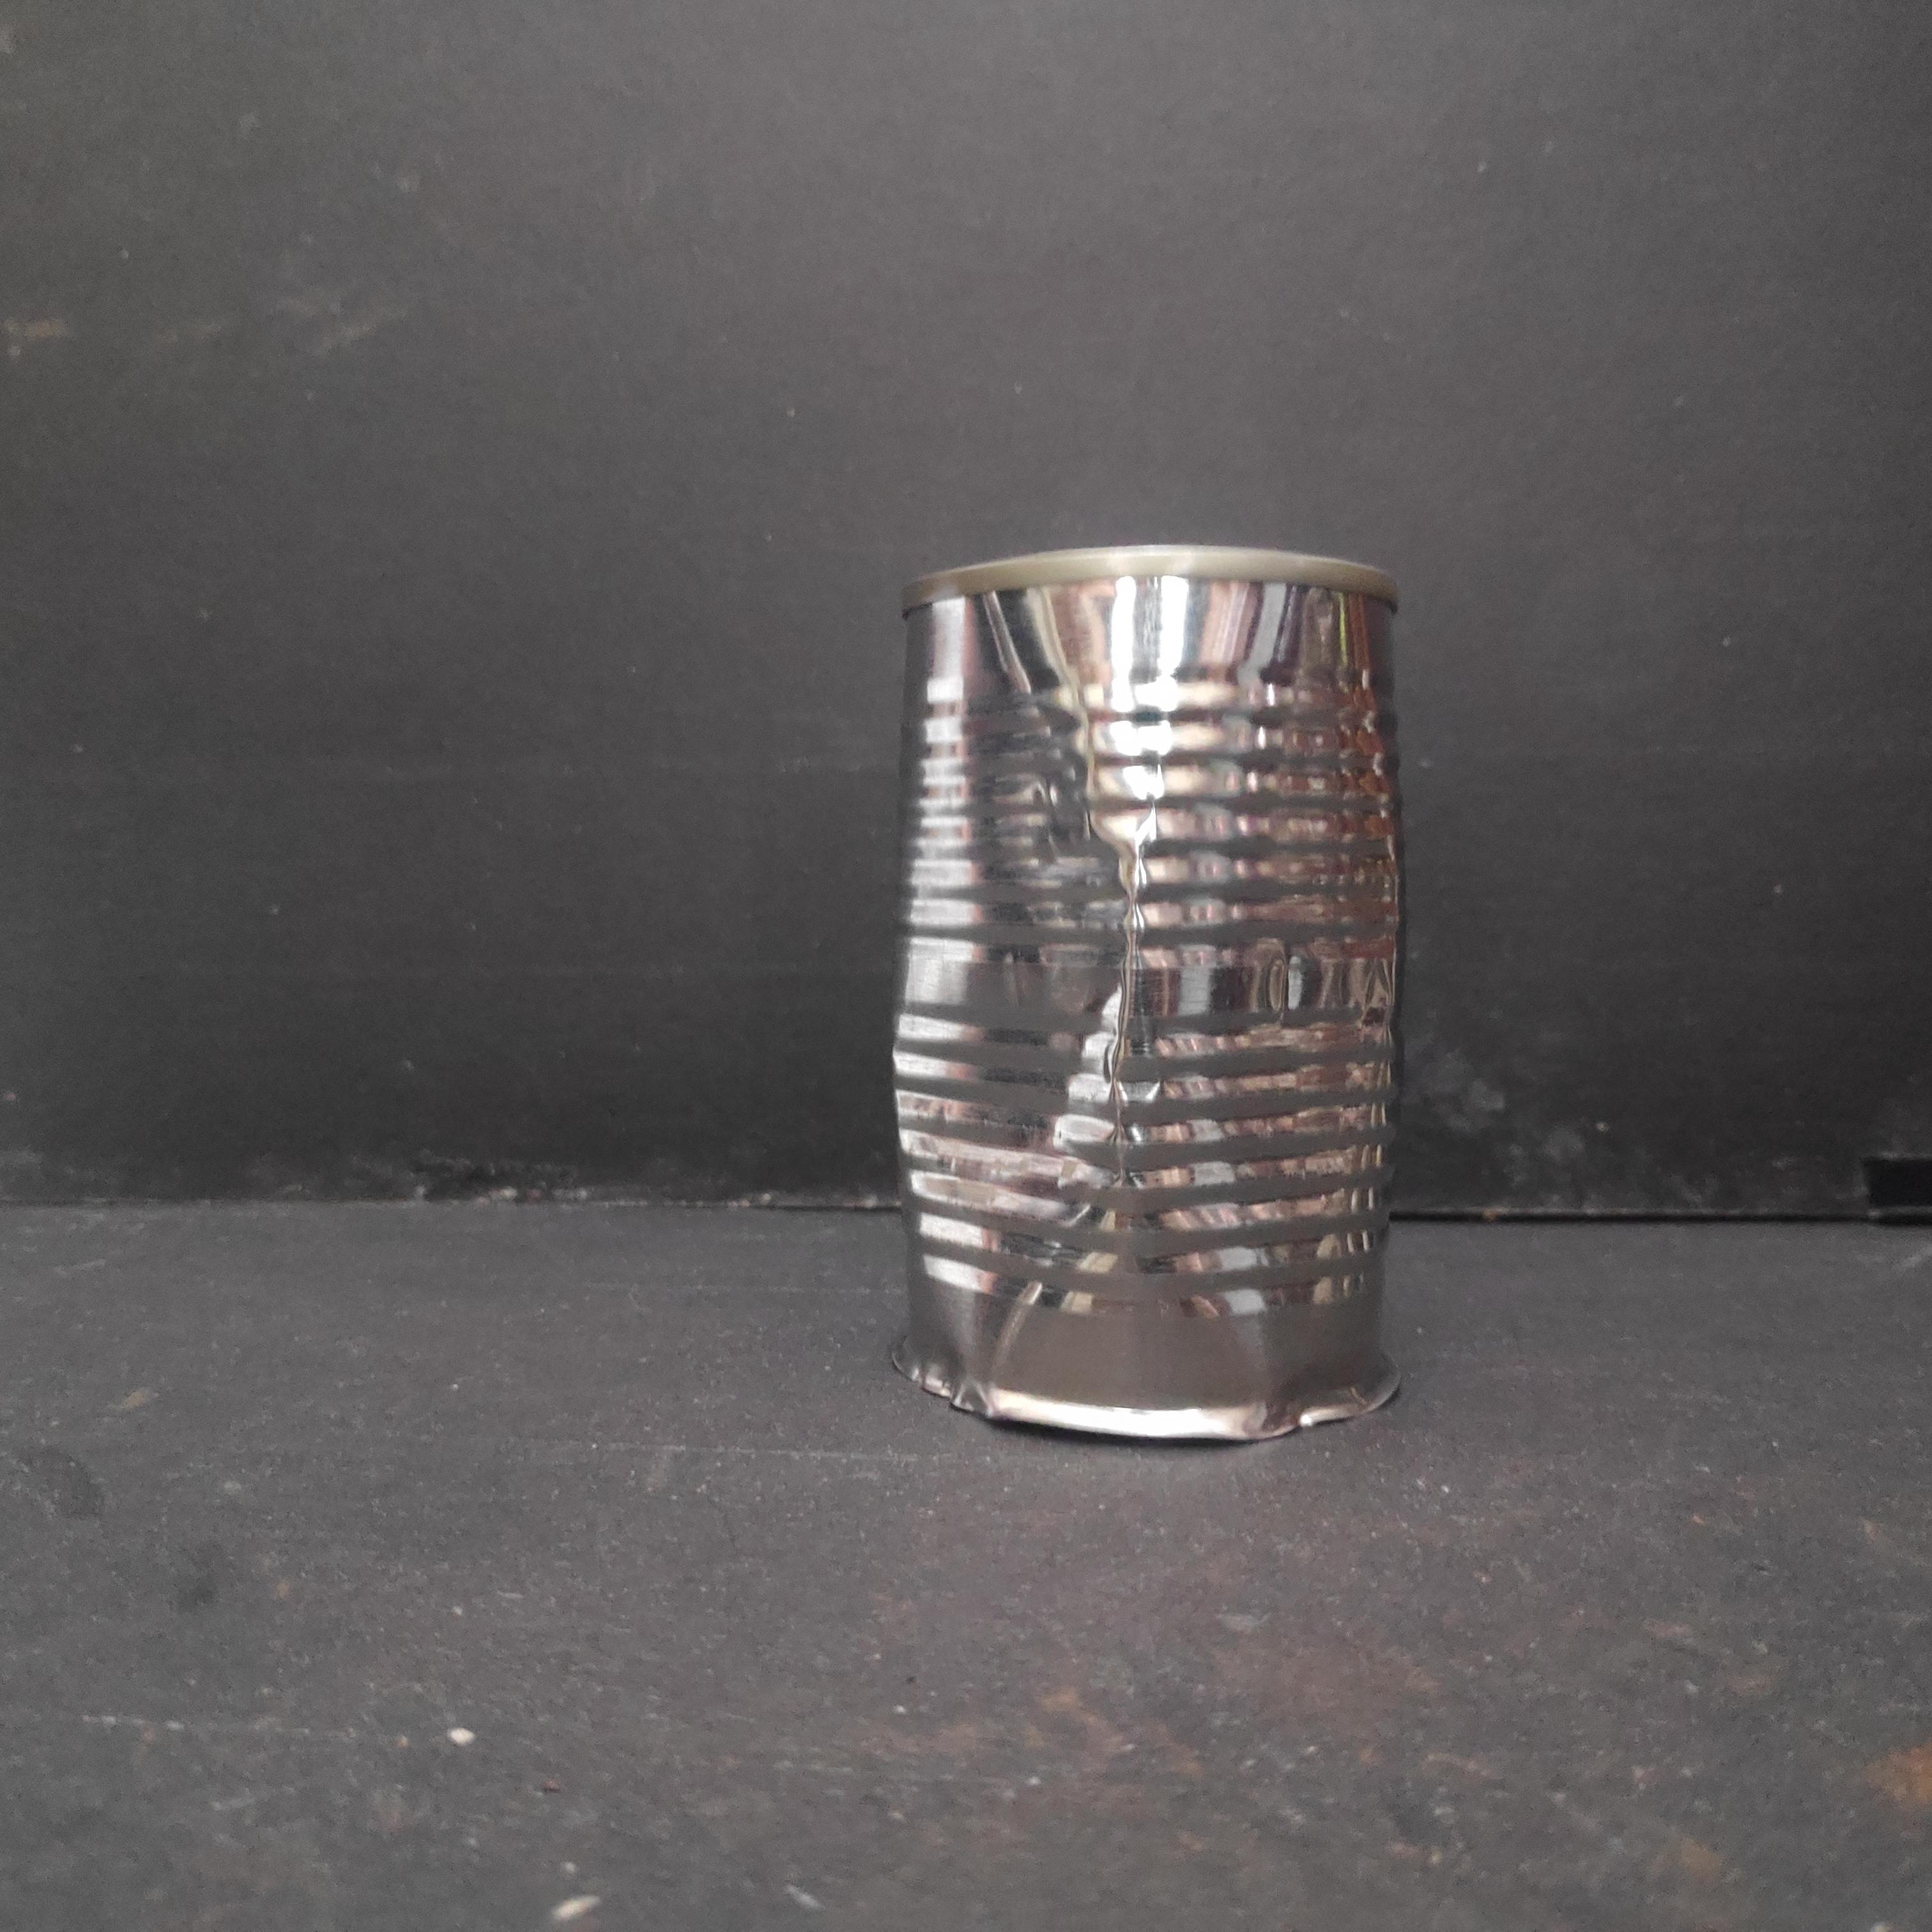Minor Defect: (870, 538, 1419, 1454)
